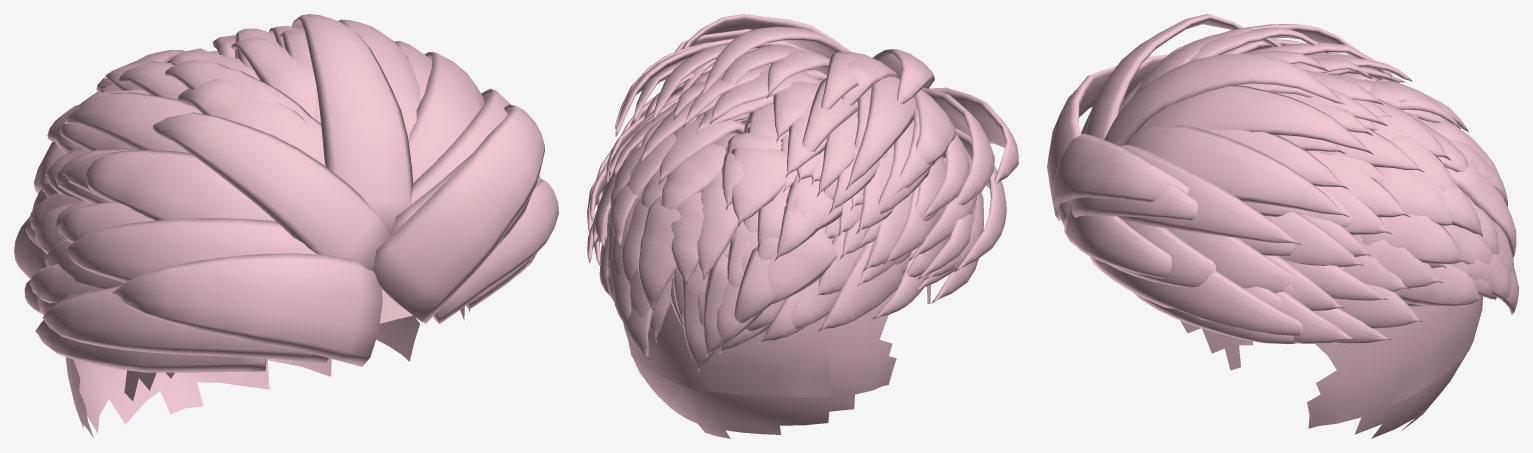
Rendered from hair_anime_male_classic_pompadour.glb.
The picture shows the model from 3 angles, left to right: view 1: azimuth 30°, elevation 25°; view 2: azimuth 150°, elevation 25°; view 3: azimuth 270°, elevation 25°; orthographic projection. The views are drawn at different scales.
Visible parts, largest first — view 1: AM_Hair_ClassicPompadour.001; view 2: AM_Hair_ClassicPompadour.001; view 3: AM_Hair_ClassicPompadour.001.
Boxes of the visible parts, x1=… form: AM_Hair_ClassicPompadour.001: x1=14, y1=14, x2=558, y2=437; AM_Hair_ClassicPompadour.001: x1=587, y1=14, x2=1018, y2=438; AM_Hair_ClassicPompadour.001: x1=1047, y1=14, x2=1518, y2=438.
Size of the model in its own units: 0.2404 by 0.21 by 0.2425.
